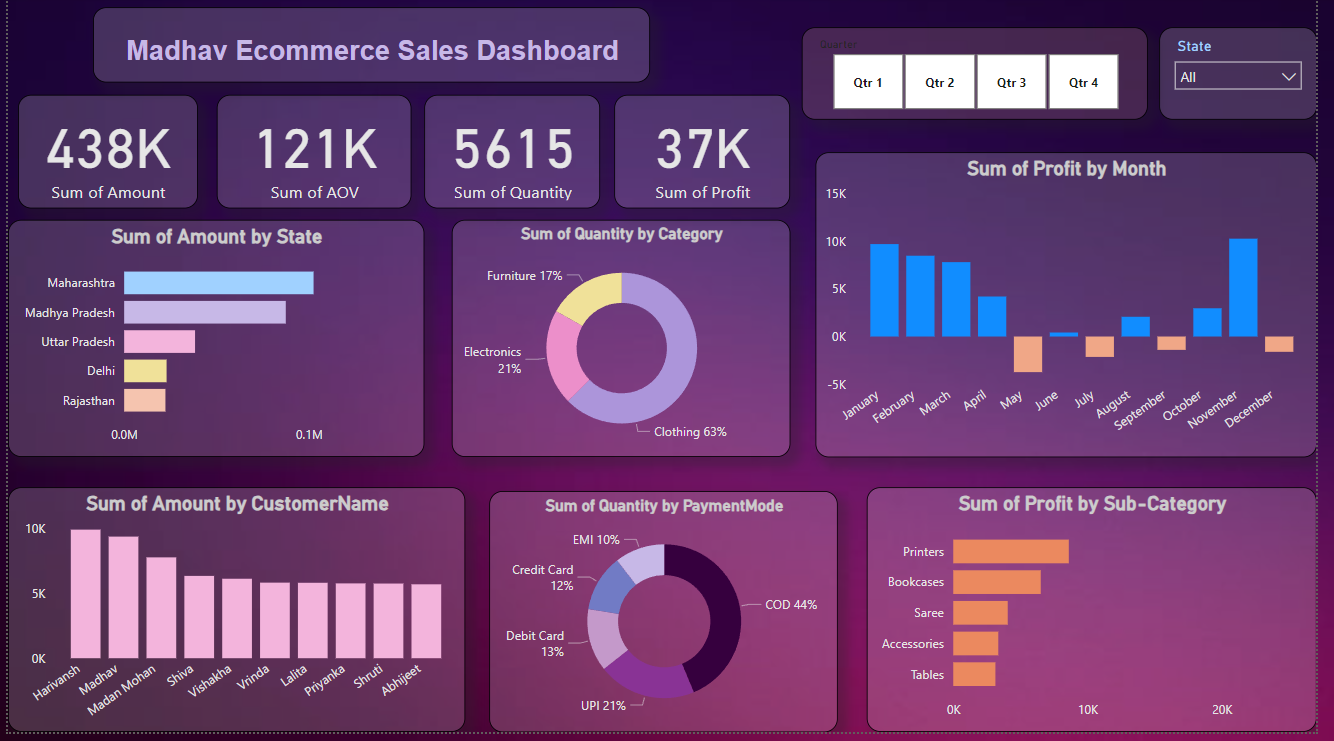

What the dashboard file says about the page in this screenshot:
{"tool":"powerbi","page":{"name":"Page 1","canvas":[1280,720],"ordinal":0},"visuals":[{"type":"columnChart","fields":{"Category":["Orders_BowerBI_Project_ExcelFile.Order Date.Variation.Date Hierarchy.Month"],"Y":["Excel_File_for_BowerBI_Project.Profit"]},"box":[789.7,152.8,490.2,298.3],"z":0},{"type":"barChart","fields":{"Category":["Excel_File_for_BowerBI_Project.Sub-Category"],"Y":["Excel_File_for_BowerBI_Project.Profit"]},"box":[839.8,480.4,440.1,239.6],"z":1000},{"type":"donutChart","fields":{"Category":["Excel_File_for_BowerBI_Project.Category"],"Y":["Excel_File_for_BowerBI_Project.Quantity"]},"box":[434,218.8,331.3,232.3],"z":2000},{"type":"donutChart","fields":{"Y":["Excel_File_for_BowerBI_Project.Quantity"],"Category":["Excel_File_for_BowerBI_Project.PaymentMode"]},"box":[470.6,484.1,341.1,235.9],"z":3000},{"type":"card","fields":{"Values":["Excel_File_for_BowerBI_Project.Amount"]},"box":[9.8,96.6,176,111.2],"z":3001},{"type":"card","fields":{"Values":["Excel_File_for_BowerBI_Project.Profit"]},"box":[592.9,96.6,172.4,111.2],"z":3002},{"type":"card","fields":{"Values":["Excel_File_for_BowerBI_Project.Quantity"]},"box":[407.1,96.6,172.4,111.2],"z":3003},{"type":"card","fields":{"Values":["Excel_File_for_BowerBI_Project.AOV"]},"box":[204.1,96.6,190.7,111.2],"z":3004},{"type":"barChart","fields":{"Category":["Orders_BowerBI_Project_ExcelFile.State"],"Y":["Excel_File_for_BowerBI_Project.Amount"]},"box":[0,218.8,407.1,232.3],"z":3005},{"type":"columnChart","fields":{"Category":["Orders_BowerBI_Project_ExcelFile.CustomerName"],"Y":["Excel_File_for_BowerBI_Project.Amount"]},"box":[0,480.4,447.4,239.6],"z":3006},{"type":"slicer","fields":{"Values":["Orders_BowerBI_Project_ExcelFile.State"]},"box":[1125.8,30.6,154,90.5],"z":3007},{"type":"slicer","fields":{"Values":["Orders_BowerBI_Project_ExcelFile.Order Date.Variation.Date Hierarchy.Quarter"]},"box":[776.2,30.6,338.6,90.5],"z":3008},{"type":"textbox","box":[83.1,11,545.2,73.3],"z":3009}]}

Visuals, with their boxes in screenshot pixels (x1, y1, x2, y2), scaled from the page's 1280x720 canvas onto the 1334x741 screenshot:
columnChart - Orders_BowerBI_Project_ExcelFile.Order Date.Variation.Date Hierarchy.Month x Excel_File_for_BowerBI_Project.Profit: (823,157,1333,464)
barChart - Excel_File_for_BowerBI_Project.Sub-Category x Excel_File_for_BowerBI_Project.Profit: (875,494,1333,740)
donutChart - Excel_File_for_BowerBI_Project.Category x Excel_File_for_BowerBI_Project.Quantity: (452,225,798,464)
donutChart - Excel_File_for_BowerBI_Project.Quantity x Excel_File_for_BowerBI_Project.PaymentMode: (490,498,846,740)
card - Excel_File_for_BowerBI_Project.Amount: (10,99,194,214)
card - Excel_File_for_BowerBI_Project.Profit: (618,99,798,214)
card - Excel_File_for_BowerBI_Project.Quantity: (424,99,604,214)
card - Excel_File_for_BowerBI_Project.AOV: (213,99,411,214)
barChart - Orders_BowerBI_Project_ExcelFile.State x Excel_File_for_BowerBI_Project.Amount: (0,225,424,464)
columnChart - Orders_BowerBI_Project_ExcelFile.CustomerName x Excel_File_for_BowerBI_Project.Amount: (0,494,466,740)
slicer - Orders_BowerBI_Project_ExcelFile.State: (1173,31,1333,125)
slicer - Orders_BowerBI_Project_ExcelFile.Order Date.Variation.Date Hierarchy.Quarter: (809,31,1162,125)
textbox: (87,11,655,87)
